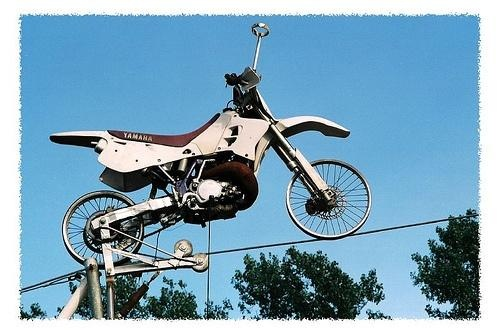motorbike: (39, 24, 386, 275)
